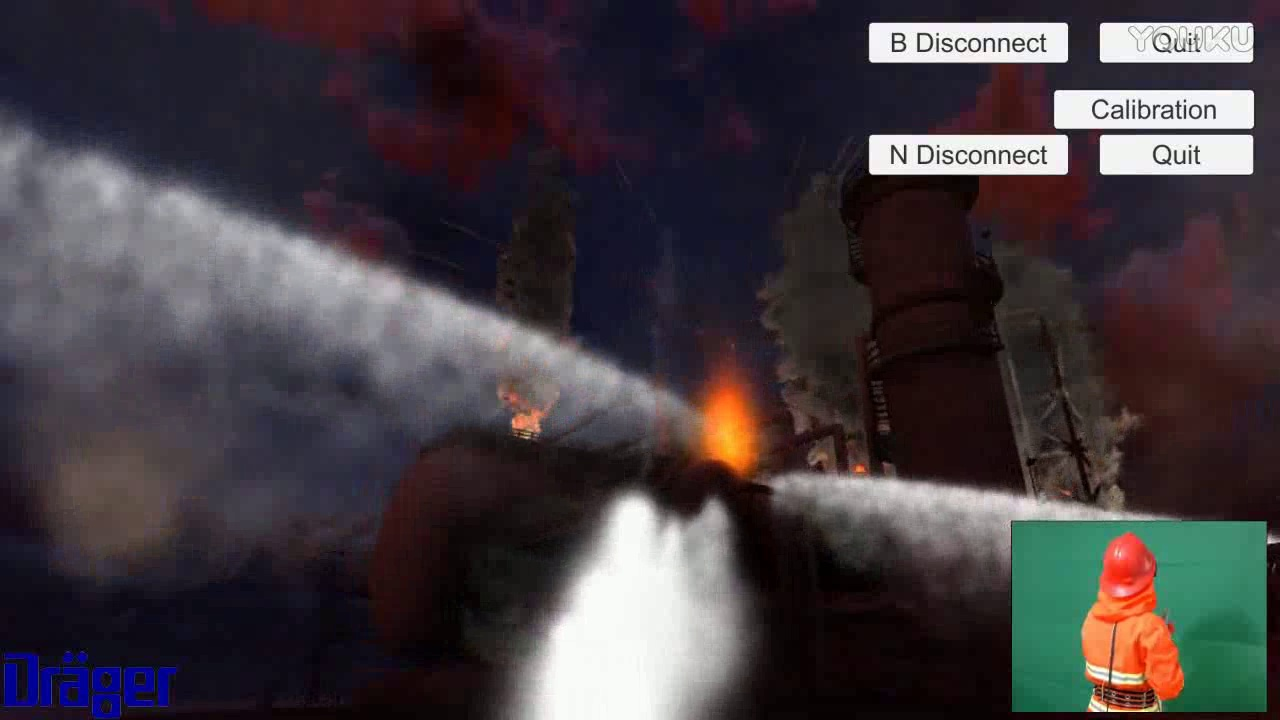fire: (701, 355, 766, 487)
